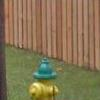Hydrant: (26, 53, 65, 100)
